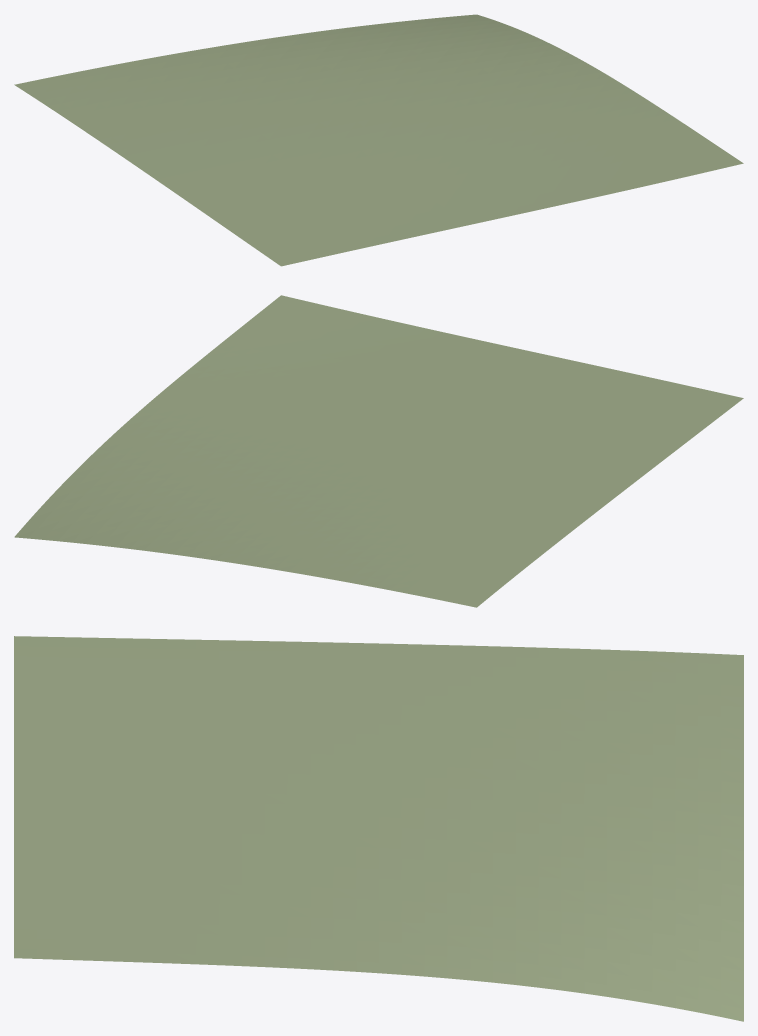
Rendered from expanse-4-7.glb.
3 views of the same model, one above another, from view 1: azimuth 30°, elevation 25°; view 2: azimuth 150°, elevation 25°; view 3: azimuth 270°, elevation 25° (orthographic). The views are drawn at different scales.
Visible parts, largest first — view 1: expanse-4-7; view 2: expanse-4-7; view 3: expanse-4-7.
Boxes of the visible parts, x1=… form: expanse-4-7: x1=14, y1=14, x2=743, y2=266; expanse-4-7: x1=14, y1=295, x2=743, y2=607; expanse-4-7: x1=14, y1=636, x2=743, y2=1021.
Size of the model in its own units: 256 by 29.87 by 256.
